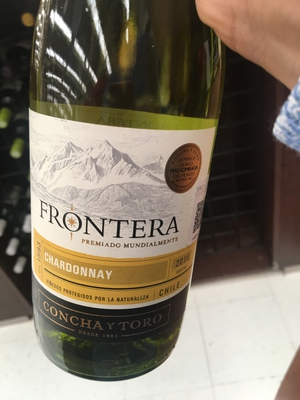frontera chardonnay: (24, 12, 220, 378)
